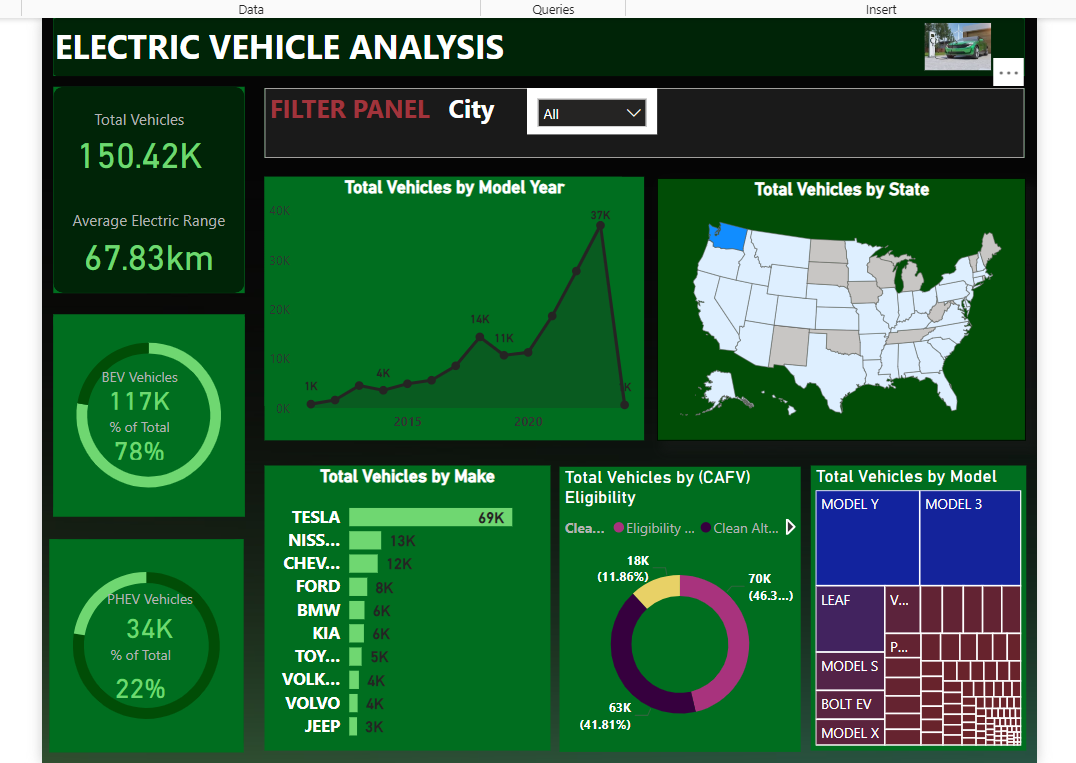

The dashboard page shown, as its layout file describes it:
{"tool":"powerbi","page":{"name":"Dashboard","canvas":[960,720],"ordinal":0},"visuals":[{"type":"shape","box":[10.4,0,937.6,55.9],"z":0},{"type":"textbox","box":[7.8,0,472.1,55.9],"z":1000},{"type":"shape","box":[10.4,66.3,184.7,199],"z":2000},{"type":"card","title":"Total Vehicles","fields":{"Values":["Electric_Vehicle_Population_Data.Total Vehicles"]},"box":[20.8,87.1,147,67.6],"z":3000},{"type":"card","title":"Average Electric Range","fields":{"Values":["Electric_Vehicle_Population_Data.Avg_Range"]},"box":[20.8,184.7,165.2,67.6],"z":4000},{"type":"shape","box":[10.4,288.7,184.7,192.5],"z":5000},{"type":"shape","box":[7.8,503.3,187.3,205.5],"z":6000},{"type":"donutChart","fields":{"Category":["Electric_Vehicle_Population_Data.Electric Vehicle Type"],"Y":["Electric_Vehicle_Population_Data.Total Vehicles"]},"box":[10.4,286.1,184.7,195.1],"z":7000},{"type":"card","title":"BEV  Vehicles","fields":{"Values":["Electric_Vehicle_Population_Data.BEV Vehicles"]},"box":[35.1,336.8,118.3,46.8],"z":8000},{"type":"card","title":"% of Total","fields":{"Values":["Electric_Vehicle_Population_Data.% BEV"]},"box":[35.1,384.9,118.3,46.8],"z":9000},{"type":"donutChart","fields":{"Category":["Electric_Vehicle_Population_Data.Electric Vehicle Type"],"Y":["Electric_Vehicle_Population_Data.Total Vehicles"]},"box":[7.8,503.3,187.3,205.5],"z":10000},{"type":"card","title":"PHEV Vehicles","fields":{"Values":["Electric_Vehicle_Population_Data.PHEV Vehicles"]},"box":[41.6,551.4,126.1,54.6],"z":11000},{"type":"card","title":"% of Total","fields":{"Values":["Electric_Vehicle_Population_Data.% PHEV"]},"box":[29.9,606,130,62.4],"z":12000},{"type":"shape","box":[214.7,67.6,733.5,67.6],"z":13000},{"type":"shape","box":[214.6,153.5,344.6,221.1],"z":14000},{"type":"areaChart","fields":{"Category":["Electric_Vehicle_Population_Data.Model Year"],"Y":["Electric_Vehicle_Population_Data.Total Vehicles"]},"box":[214.7,153.2,366.8,254.6],"z":15000},{"type":"shapeMap","title":"Total Vehicles by State","fields":{"Category":["Electric_Vehicle_Population_Data.State"]},"box":[593.6,154.4,355.9,253.4],"z":16000},{"type":"barChart","fields":{"Y":["Electric_Vehicle_Population_Data.Total Vehicles"],"Category":["Electric_Vehicle_Population_Data.Make"]},"box":[214.7,431.9,276.3,275.1],"z":17000},{"type":"donutChart","title":"Total Vehicles by (CAFV) Eligibility","fields":{"Category":["Electric_Vehicle_Population_Data.Clean Alternative Fuel Vehicle (CAFV) Eligibility"],"Y":["Electric_Vehicle_Population_Data.Total Vehicles"]},"box":[499.5,433.1,232.8,275.1],"z":18000},{"type":"treemap","fields":{"Group":["Electric_Vehicle_Population_Data.Model"],"Values":["Electric_Vehicle_Population_Data.Total Vehicles"]},"box":[742,432,208,275],"z":19000},{"type":"textbox","box":[214.7,66.4,172.5,68.8],"z":20000},{"type":"slicer","fields":{"Values":["Electric_Vehicle_Population_Data.City"]},"box":[468.1,67.6,125.5,44.6],"z":21000},{"type":"textbox","box":[387.3,66.4,80.8,54.3],"z":22000},{"type":"image","box":[819.2,0,130.3,55.5],"z":23000}]}

Visuals, with their boxes on the page's 960x720 design canvas (x1, y1, x2, y2). These are canvas units, not pixel positions in the 1076x763 screenshot, which may show the page scaled, cropped or inside an application window:
shape: bbox=[10, 0, 948, 56]
textbox: bbox=[8, 0, 480, 56]
shape: bbox=[10, 66, 195, 265]
"Total Vehicles" card: bbox=[21, 87, 168, 155]
"Average Electric Range" card: bbox=[21, 185, 186, 252]
shape: bbox=[10, 289, 195, 481]
shape: bbox=[8, 503, 195, 709]
donutChart - Electric_Vehicle_Population_Data.Electric Vehicle Type x Electric_Vehicle_Population_Data.Total Vehicles: bbox=[10, 286, 195, 481]
"BEV  Vehicles" card: bbox=[35, 337, 153, 384]
"% of Total" card: bbox=[35, 385, 153, 432]
donutChart - Electric_Vehicle_Population_Data.Electric Vehicle Type x Electric_Vehicle_Population_Data.Total Vehicles: bbox=[8, 503, 195, 709]
"PHEV Vehicles" card: bbox=[42, 551, 168, 606]
"% of Total" card: bbox=[30, 606, 160, 668]
shape: bbox=[215, 68, 948, 135]
shape: bbox=[215, 154, 559, 375]
areaChart - Electric_Vehicle_Population_Data.Model Year x Electric_Vehicle_Population_Data.Total Vehicles: bbox=[215, 153, 582, 408]
"Total Vehicles by State" shapeMap: bbox=[594, 154, 950, 408]
barChart - Electric_Vehicle_Population_Data.Total Vehicles x Electric_Vehicle_Population_Data.Make: bbox=[215, 432, 491, 707]
"Total Vehicles by (CAFV) Eligibility" donutChart: bbox=[500, 433, 732, 708]
treemap - Electric_Vehicle_Population_Data.Model x Electric_Vehicle_Population_Data.Total Vehicles: bbox=[742, 432, 950, 707]
textbox: bbox=[215, 66, 387, 135]
slicer - Electric_Vehicle_Population_Data.City: bbox=[468, 68, 594, 112]
textbox: bbox=[387, 66, 468, 121]
image: bbox=[819, 0, 950, 56]
